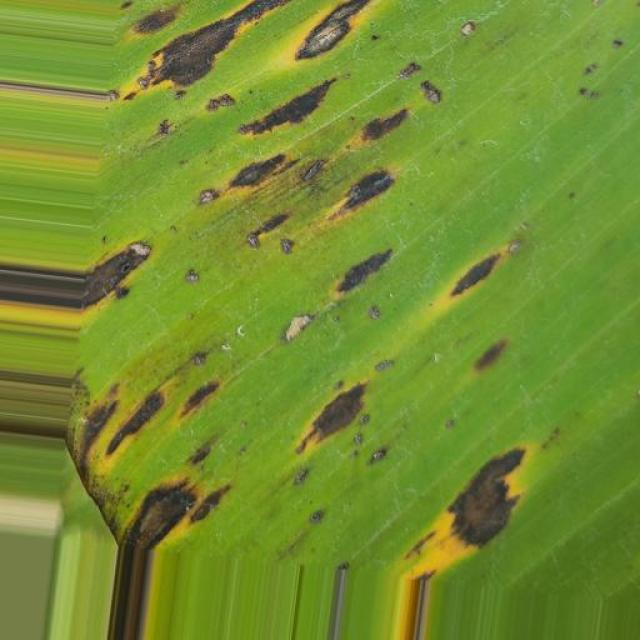Early_rust: (39, 0, 558, 589)
